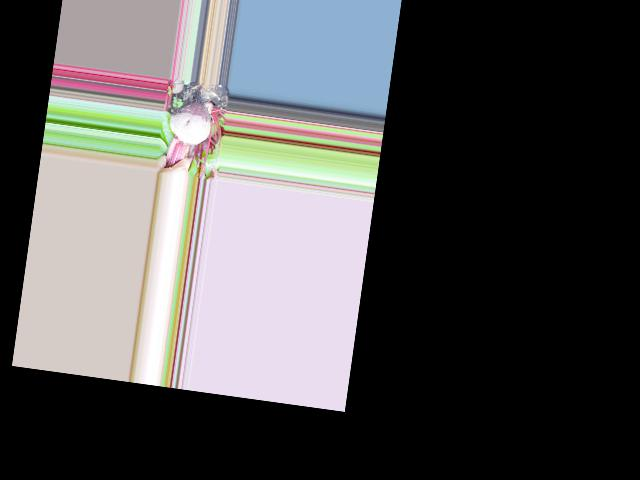beet: (163, 78, 216, 173)
